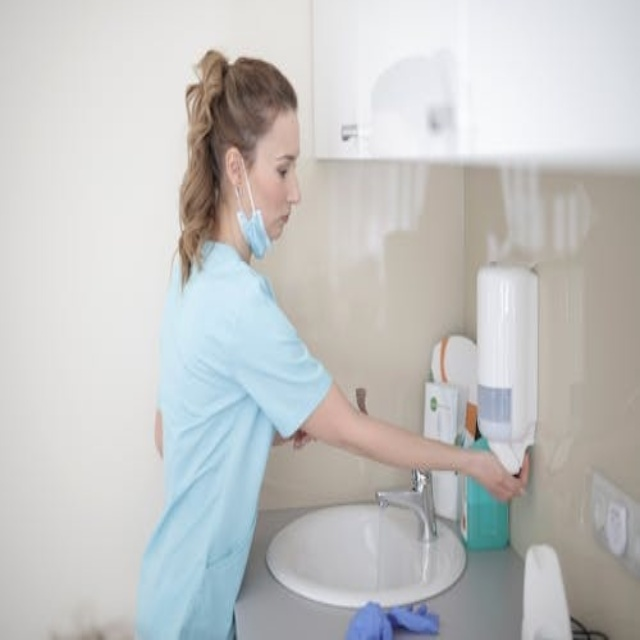Sin_gafas: (257, 148, 302, 183)
Sin_guantes: (448, 427, 536, 509)
Sin_mascara: (268, 202, 293, 244)
